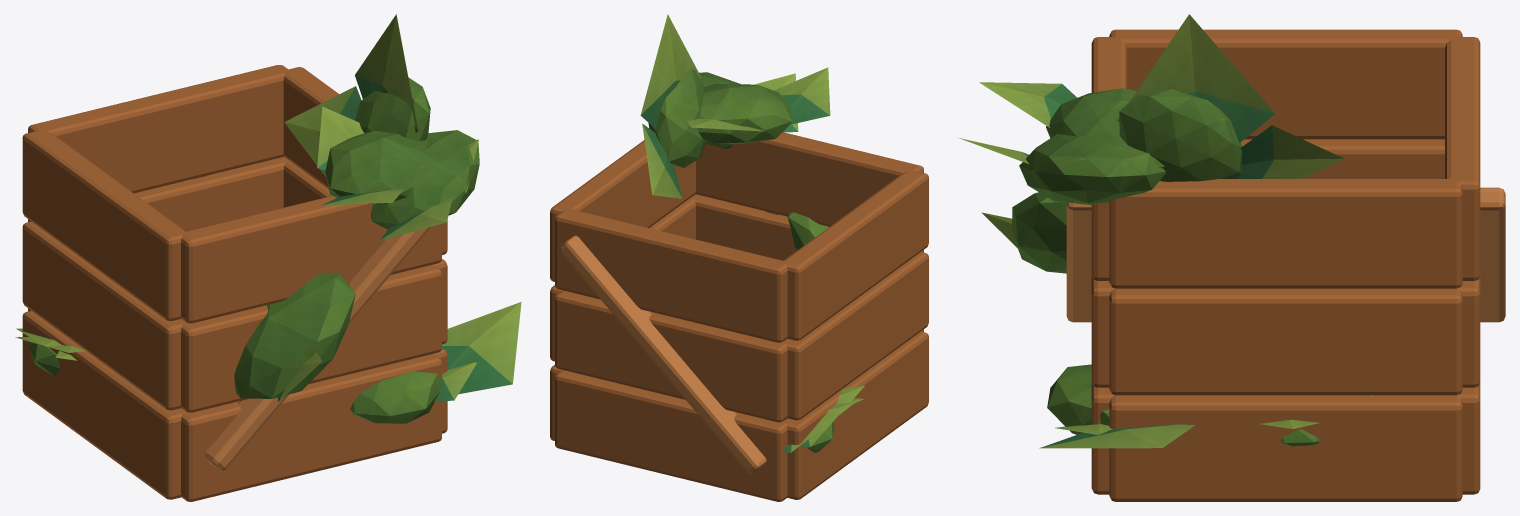
File: kit_open_crate.glb
3 views of the same model, side by side, from view 1: azimuth 30°, elevation 25°; view 2: azimuth 150°, elevation 25°; view 3: azimuth 270°, elevation 25° (orthographic). The views are drawn at different scales.
Visible parts, largest first — view 1: Open crate side plank.005, Open crate side plank.004, Open crate side plank, Open crate end plank.004, Open crate end plank.002, Open crate side plank.002, Open crate end plank, Woodland shared moss cushion.040, Open crate side plank.003, Woodland shared moss cushion.047, Woodland shared moss cushion.046, Open crate diagonal (+12 smaller); view 2: Open crate side plank.005, Open crate side plank.001, Open crate side plank.003, Open crate end plank.004, Open crate side plank.004, Open crate end plank.002, Open crate end plank, Open crate diagonal.001, Open crate end plank.005, Woodland shared moss cushion.047, Open crate side plank.002, Woodland shared moss cushion.048 (+9 smaller); view 3: Open crate end plank.003, Open crate end plank.005, Open crate end plank.001, Open crate end plank.004, Woodland shared moss cushion.048, Woodland shared moss cushion.046, Open crate side plank.005, Woodland shared curved ivy leaf.116, Open crate end plank.002, Woodland shared moss cushion.040, Woodland shared curved ivy leaf.117, Open crate diagonal.001 (+10 smaller).
Boxes of the visible parts, left/top/right/bottom form: Open crate side plank.005: left=28, top=65, right=288, bottom=193; Open crate side plank.004: left=181, top=195, right=441, bottom=323; Open crate side plank: left=181, top=354, right=441, bottom=501; Open crate end plank.004: left=22, top=129, right=186, bottom=321; Open crate end plank.002: left=22, top=221, right=185, bottom=410; Open crate side plank.002: left=181, top=265, right=441, bottom=412; Open crate end plank: left=22, top=310, right=185, bottom=499; Woodland shared moss cushion.040: left=234, top=273, right=355, bottom=398; Open crate side plank.003: left=28, top=157, right=287, bottom=231; Woodland shared moss cushion.047: left=325, top=131, right=429, bottom=204; Woodland shared moss cushion.046: left=371, top=130, right=479, bottom=229; Open crate diagonal: left=204, top=227, right=430, bottom=470; Open crate side plank.005: left=555, top=209, right=787, bottom=342; Open crate side plank.001: left=555, top=370, right=787, bottom=501; Open crate side plank.003: left=555, top=290, right=787, bottom=422; Open crate end plank.004: left=783, top=170, right=928, bottom=340; Open crate side plank.004: left=695, top=132, right=923, bottom=226; Open crate end plank.002: left=783, top=252, right=928, bottom=420; Open crate end plank: left=784, top=331, right=928, bottom=499; Open crate diagonal.001: left=559, top=235, right=766, bottom=473; Open crate end plank.005: left=550, top=140, right=695, bottom=281; Woodland shared moss cushion.047: left=697, top=83, right=792, bottom=144; Open crate side plank.002: left=692, top=194, right=923, bottom=260; Woodland shared moss cushion.048: left=648, top=69, right=706, bottom=167; Open crate end plank.003: left=1109, top=288, right=1462, bottom=395; Open crate end plank.005: left=1109, top=179, right=1462, bottom=288; Open crate end plank.001: left=1109, top=395, right=1462, bottom=501; Open crate end plank.004: left=1109, top=29, right=1462, bottom=139; Woodland shared moss cushion.048: left=1119, top=89, right=1242, bottom=181; Woodland shared moss cushion.046: left=1019, top=134, right=1165, bottom=205; Open crate side plank.005: left=1445, top=37, right=1480, bottom=280; Woodland shared curved ivy leaf.116: left=1117, top=14, right=1275, bottom=142; Open crate end plank.002: left=1241, top=139, right=1444, bottom=178; Woodland shared moss cushion.040: left=1012, top=192, right=1066, bottom=273; Woodland shared curved ivy leaf.117: left=1236, top=125, right=1343, bottom=178; Open crate diagonal.001: left=1480, top=187, right=1505, bottom=322.
Bounding box in the file's own units: 0.695 × 0.673 × 0.6982.
6 materials, 3 textured.
